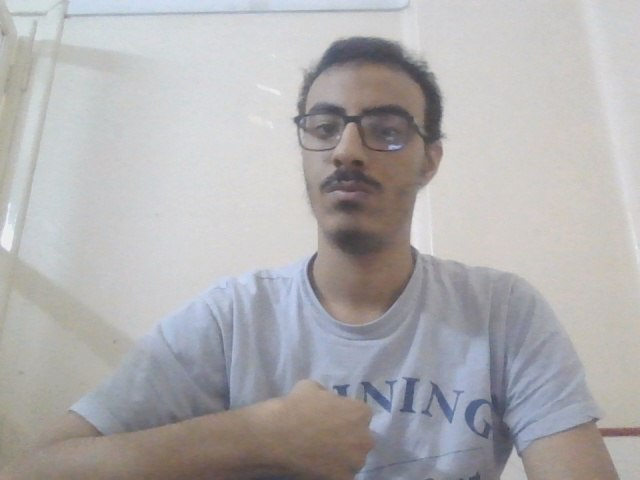Me: (234, 368, 389, 480)
